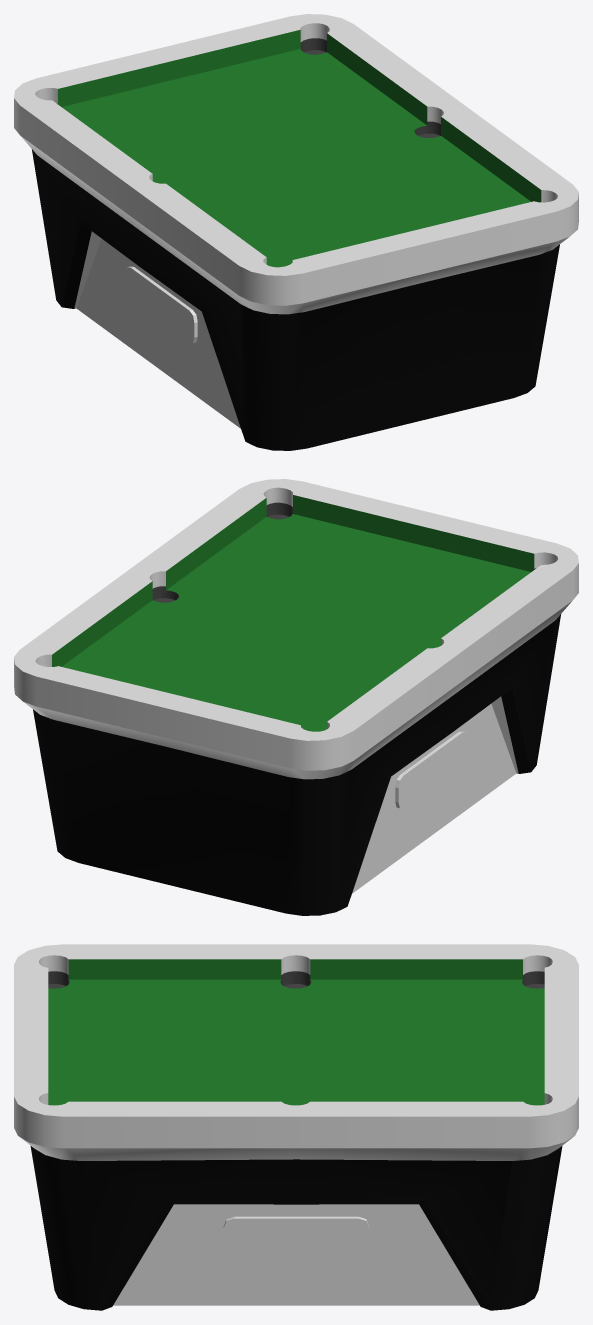
The model's file is BILIARD TABLE.glb.
3 renders of one model, top to bottom at view 1: azimuth 30°, elevation 25°; view 2: azimuth 150°, elevation 25°; view 3: azimuth 270°, elevation 25°, orthographic. The views are drawn at different scales.
Parts seen in each view (by area): view 1: Table_Plane; view 2: Table_Plane; view 3: Table_Plane.
Boxes of the visible parts, x1,y1,x2,y2 form: Table_Plane: [14, 14, 578, 450]; Table_Plane: [14, 479, 578, 915]; Table_Plane: [14, 944, 578, 1310].
Size of the model in its own units: 3.11 by 1.73 by 4.3.
